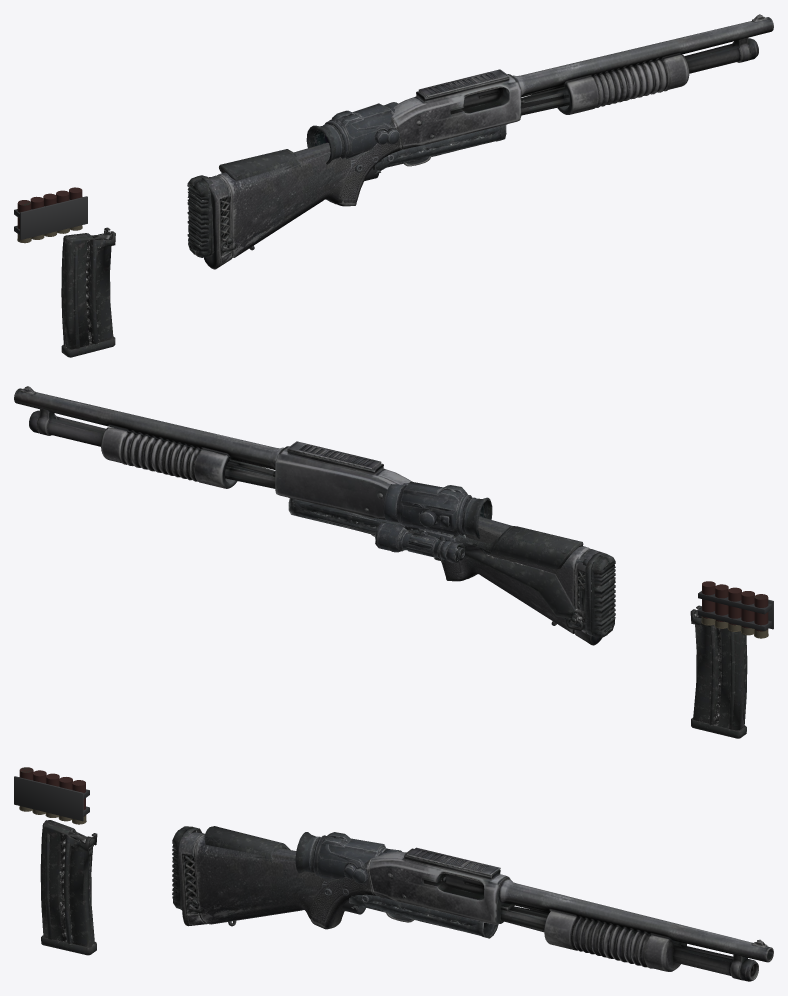
The model's file is taran.glb.
3 views of the same model, one above another, from view 1: azimuth 30°, elevation 25°; view 2: azimuth 150°, elevation 25°; view 3: azimuth 330°, elevation 25° (orthographic). The views are drawn at different scales.
Visible parts, largest first — view 1: Taran_body, stock_factory, mag_shotgun_box, stock_shotgun_otdacha, optic_gran, mag_shotgun_buck, muzzle_vata; view 2: Taran_body, stock_shotgun_otdacha, mag_shotgun_box, optic_gran, stock_factory, mag_shotgun_buck, rail_luch, muzzle_vata; view 3: Taran_body, stock_factory, mag_shotgun_box, mag_shotgun_buck, optic_gran, stock_shotgun_otdacha, muzzle_vata, optic_blik.
Part boxes in pixels (box(x1,y1,x2,y2)): Taran_body: box(333, 14, 773, 206); stock_factory: box(204, 142, 367, 269); mag_shotgun_box: box(61, 227, 115, 357); stock_shotgun_otdacha: box(187, 149, 301, 257); optic_gran: box(306, 102, 399, 172); mag_shotgun_buck: box(14, 187, 87, 243); muzzle_vata: box(372, 124, 506, 173); Taran_body: box(14, 386, 469, 581); stock_shotgun_otdacha: box(434, 525, 615, 637); mag_shotgun_box: box(690, 605, 747, 738); optic_gran: box(383, 481, 492, 541); stock_factory: box(453, 516, 604, 645); mag_shotgun_buck: box(698, 581, 773, 638); rail_luch: box(375, 522, 465, 563); muzzle_vata: box(288, 498, 418, 534); Taran_body: box(309, 847, 773, 981); stock_factory: box(178, 832, 337, 926); mag_shotgun_box: box(40, 820, 97, 955); mag_shotgun_buck: box(14, 767, 89, 824); optic_gran: box(295, 832, 401, 902); stock_shotgun_otdacha: box(172, 826, 344, 913); muzzle_vata: box(349, 894, 498, 938); optic_blik: box(319, 835, 384, 897).
Size of the model in its own units: 1.31 by 0.297 by 0.1.
16 materials, 9 textured.
